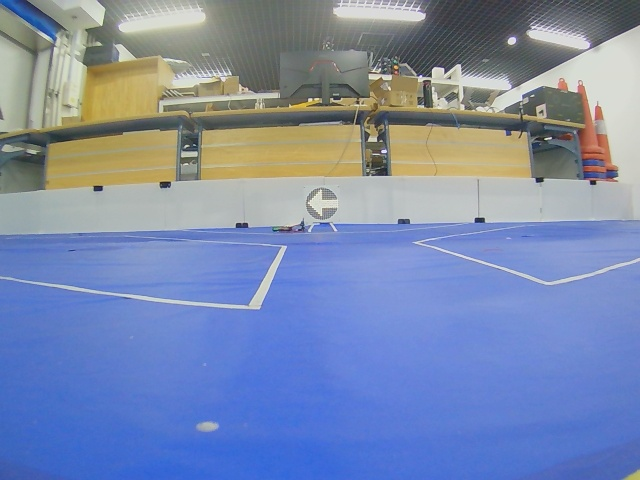left_yellow: (306, 187, 339, 220)
